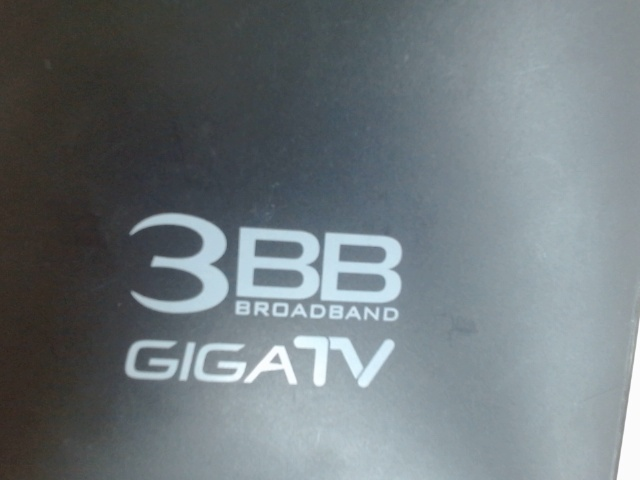AG_3BB: (106, 202, 407, 392)
